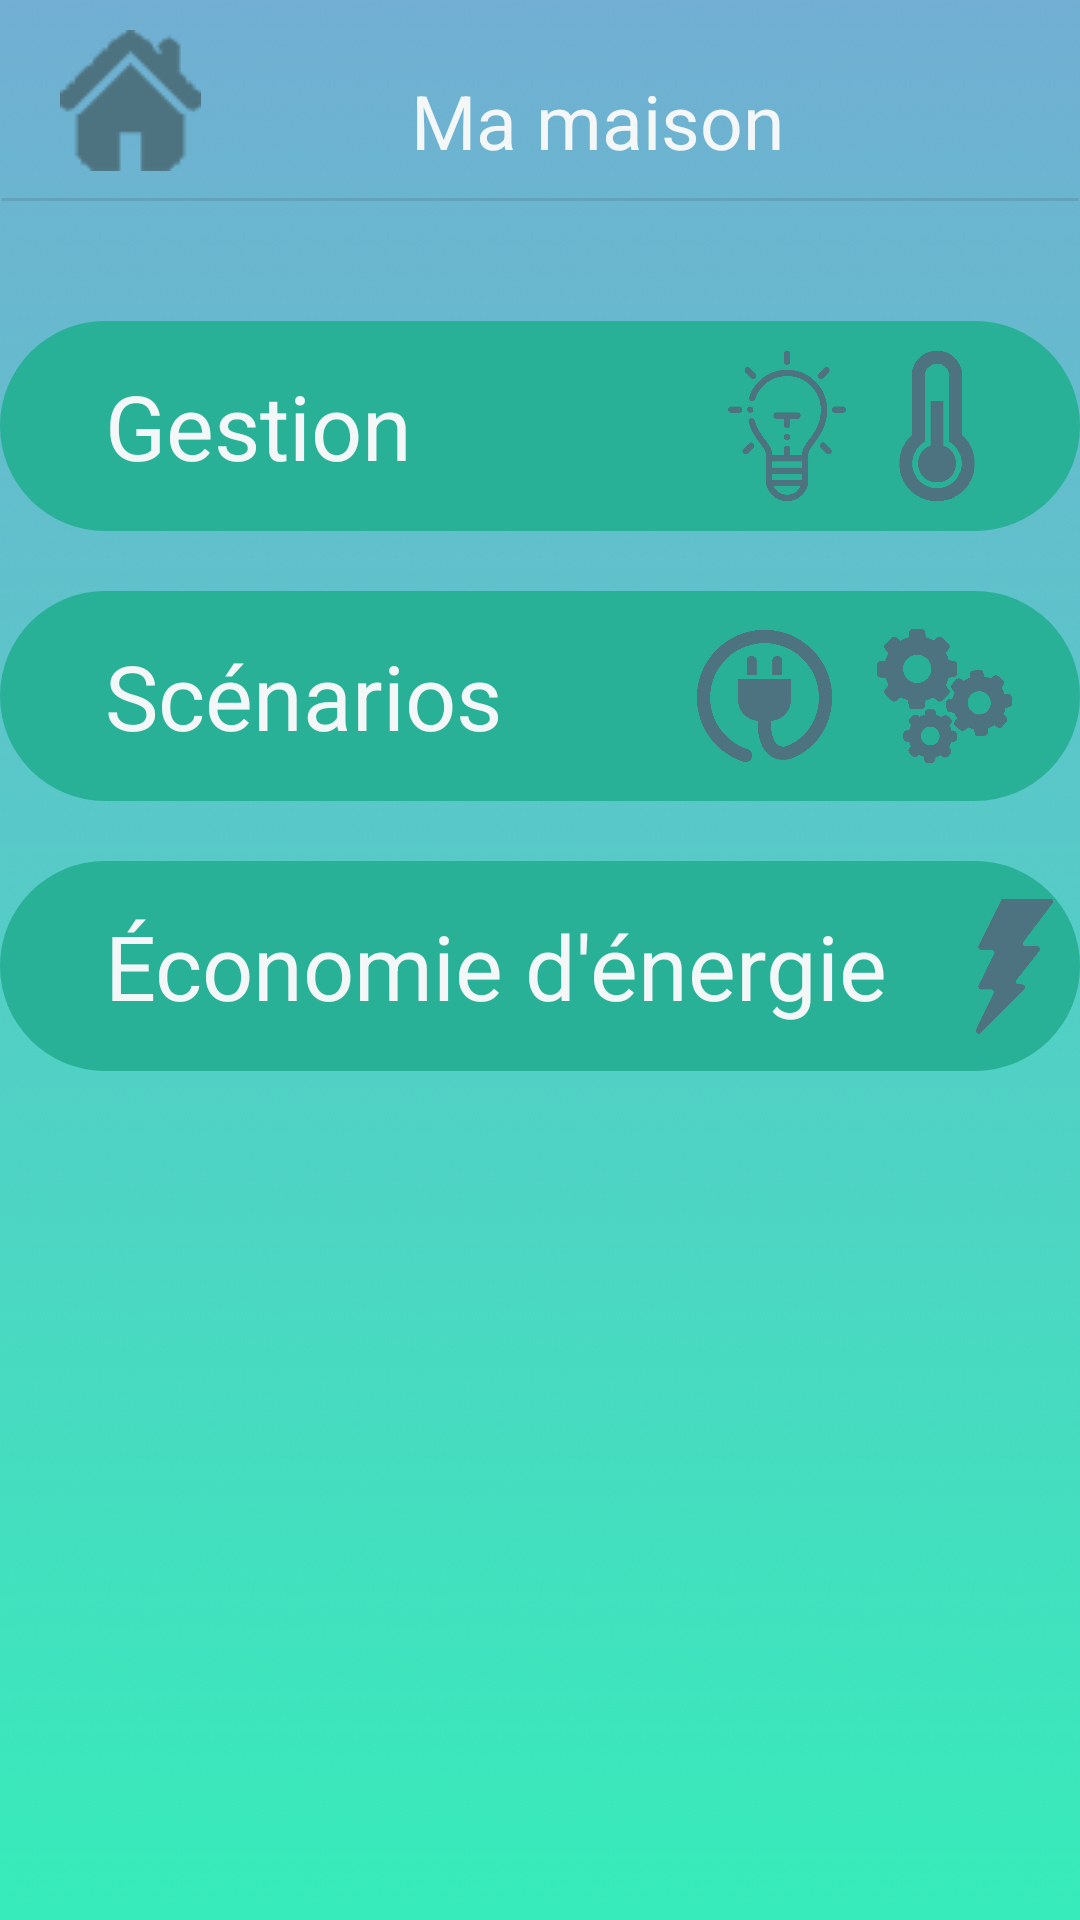

Icons on this 1080px x 1920px Android screen, each with the point to tap as (x=x, y=y):
home silhouette: (x=130, y=100)
lamp: (x=787, y=426)
lightning energy: (x=1013, y=966)
power cord: (x=764, y=696)
settings gears: (x=944, y=696)
thermometer: (x=937, y=426)
